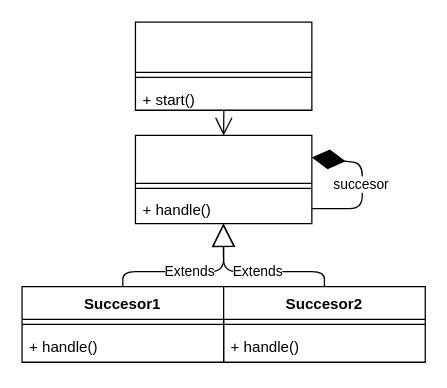
Some shapes in this 447 by 388 pixel diagram are drawn without their labels. Here are the shapes that lost their labels. From the top down, the box of each, then its label:
(134, 21, 312, 110): «interface» Client
(134, 134, 312, 224): «interface» IHandler
